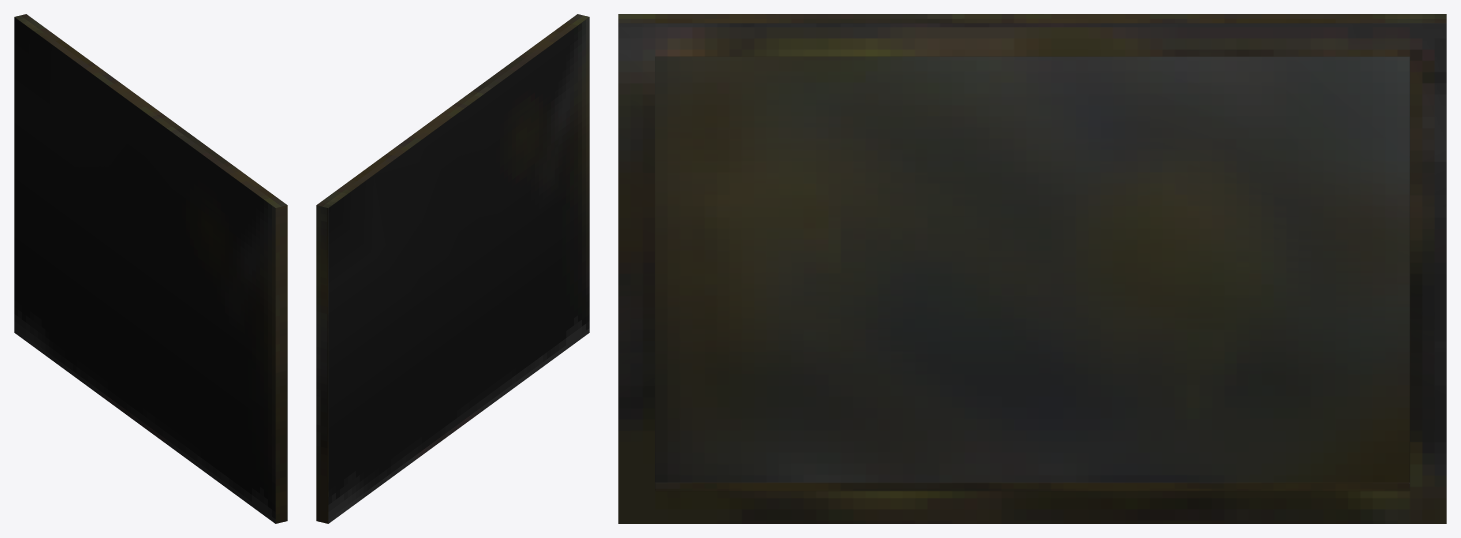
Rendered from mirror_grime.fbx.
The picture shows the model from 3 angles, left to right: view 1: azimuth 30°, elevation 25°; view 2: azimuth 150°, elevation 25°; view 3: azimuth 270°, elevation 25°; orthographic projection. The views are drawn at different scales.
Parts seen in each view (by area): view 1: mirror_grime; view 2: mirror_grime; view 3: mirror_grime.
Part boxes in pixels (bbox=[...]): mirror_grime: bbox=[14, 14, 287, 523]; mirror_grime: bbox=[316, 14, 589, 523]; mirror_grime: bbox=[618, 14, 1446, 523].
Bounding box in the file's own units: 0.04 × 1 × 1.5.
Materials: 1 (1 with a texture image).
